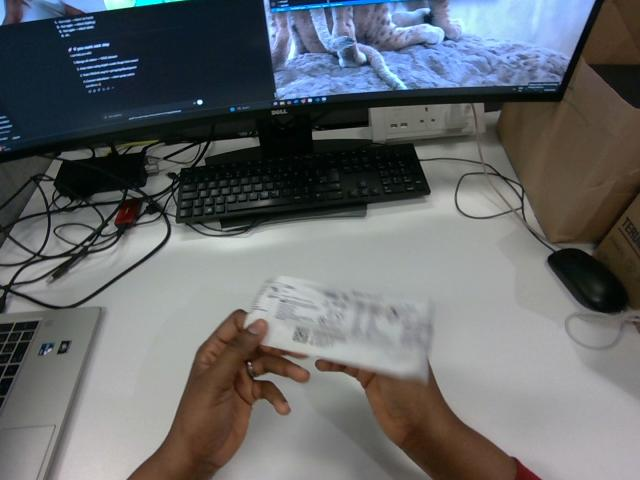syringe: (245, 276, 431, 381)
